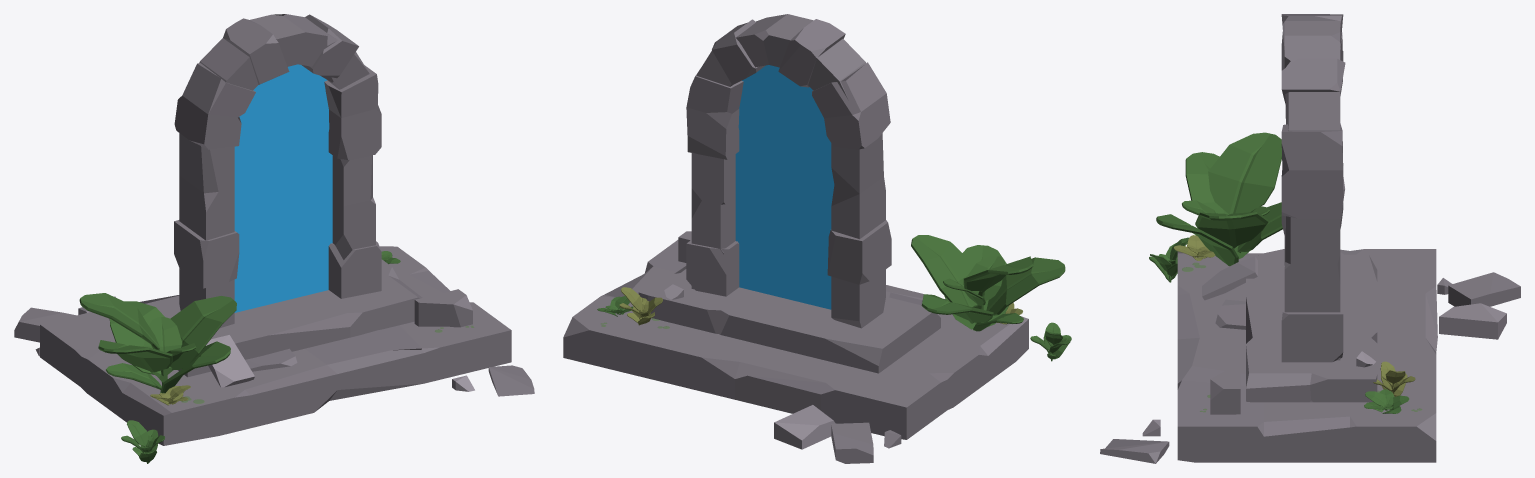
File: portal.fbx
3 renders of one model, left to right at view 1: azimuth 30°, elevation 25°; view 2: azimuth 150°, elevation 25°; view 3: azimuth 270°, elevation 25°, orthographic. The views are drawn at different scales.
Visible parts, largest first — view 1: Circle.015; view 2: Circle.015; view 3: Circle.015.
Boxes of the visible parts, bbox=[...] form: Circle.015: bbox=[14, 14, 534, 463]; Circle.015: bbox=[563, 14, 1071, 463]; Circle.015: bbox=[1100, 14, 1520, 463].
Size of the model in its own units: 733 by 603 by 640.
